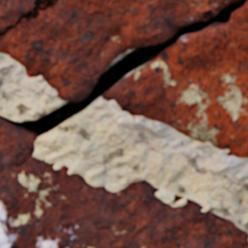brick: (0, 116, 247, 247), (173, 194, 183, 200)
broken_brick: (0, 0, 243, 100), (101, 0, 247, 156), (0, 0, 36, 32)
crack: (0, 0, 245, 137), (0, 0, 59, 35)
